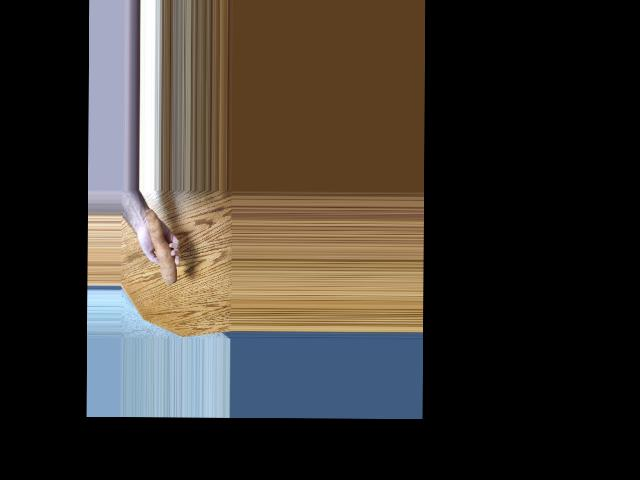sweet_potato: (149, 218, 181, 296)
